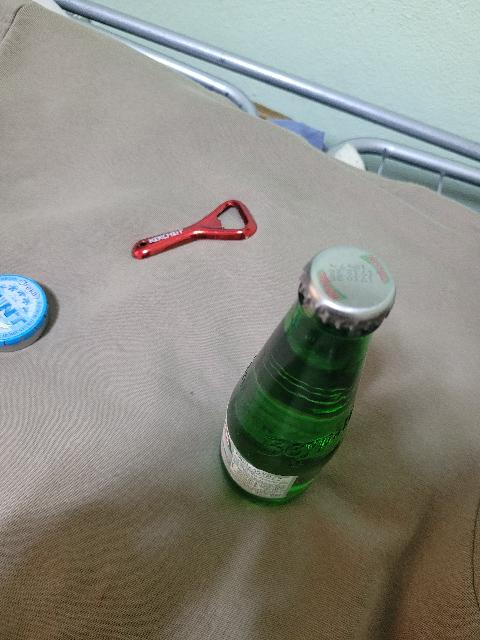Cam: (219, 298, 396, 521)
Metal: (127, 198, 261, 262), (296, 247, 394, 321)
